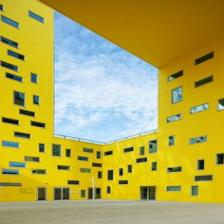yellow: (39, 0, 224, 68)
